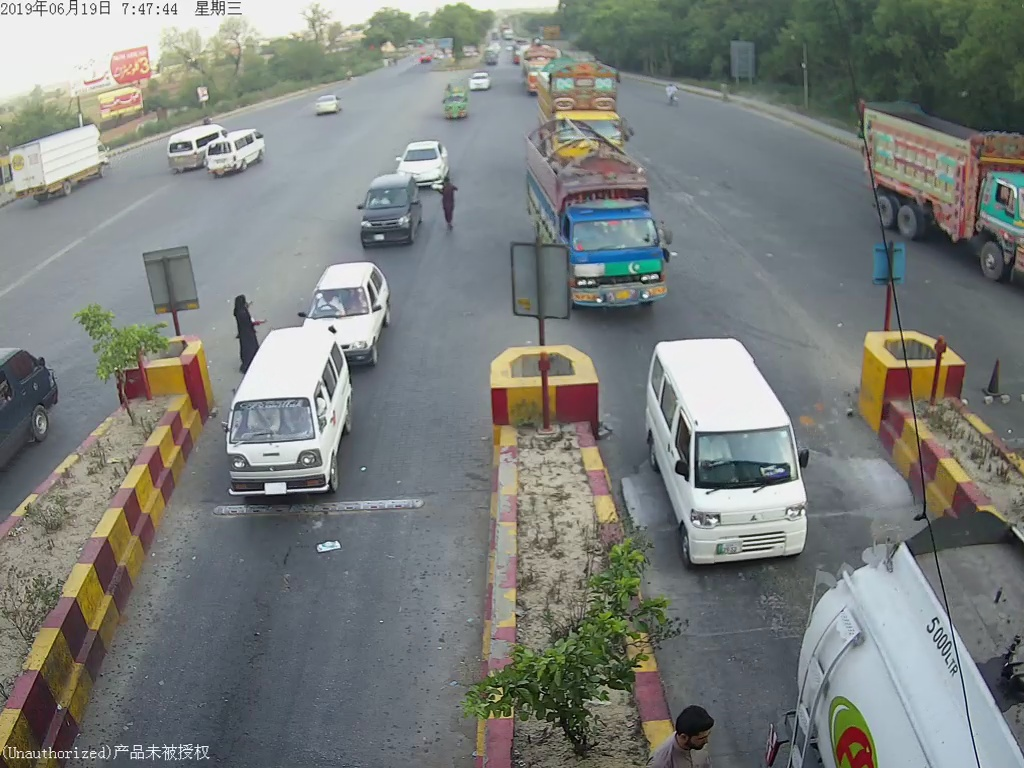Cat-1: (640, 327, 821, 565), (215, 322, 350, 496), (297, 252, 391, 369), (352, 173, 429, 253), (396, 136, 451, 190)
Cat-2: (526, 127, 678, 309)
